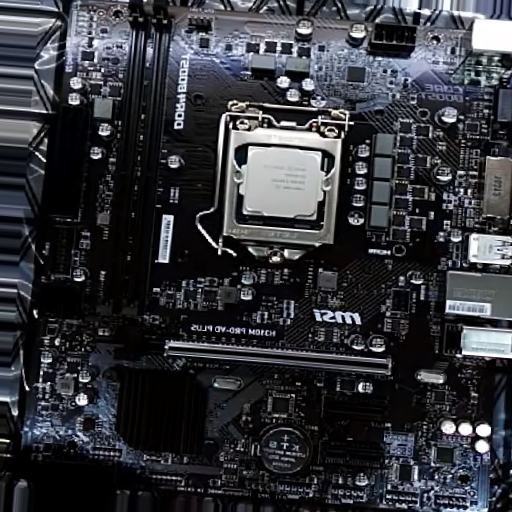CPU: (221, 101, 351, 264)
GPU: (114, 324, 393, 376)
MOTHERBOARD: (23, 1, 510, 511)
RAM: (95, 2, 173, 322)
